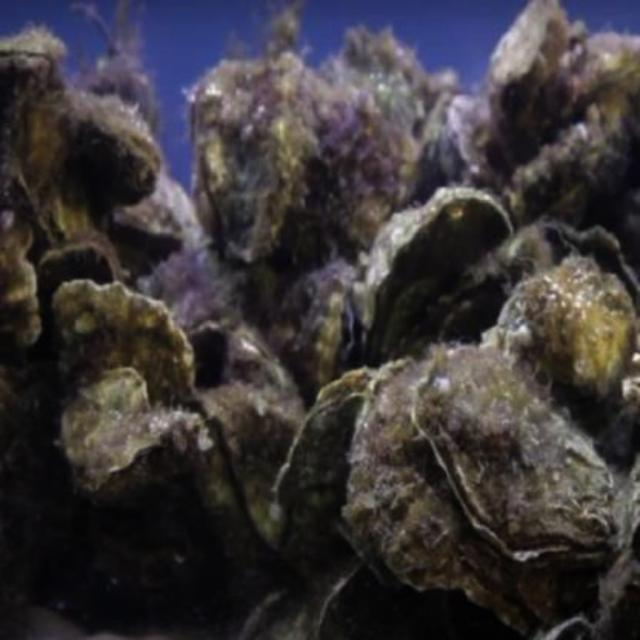Oyster-Closed: (355, 357, 610, 621), (350, 184, 518, 370), (189, 54, 285, 268), (287, 99, 402, 268), (494, 266, 637, 400), (56, 284, 198, 417), (281, 363, 368, 578), (200, 377, 304, 546), (59, 363, 155, 490), (70, 92, 163, 214), (540, 25, 638, 138), (30, 246, 115, 366), (493, 5, 570, 115), (297, 286, 361, 391), (0, 214, 39, 365), (2, 36, 66, 86)
Oyster-Open: (410, 347, 619, 567), (493, 221, 638, 318)
